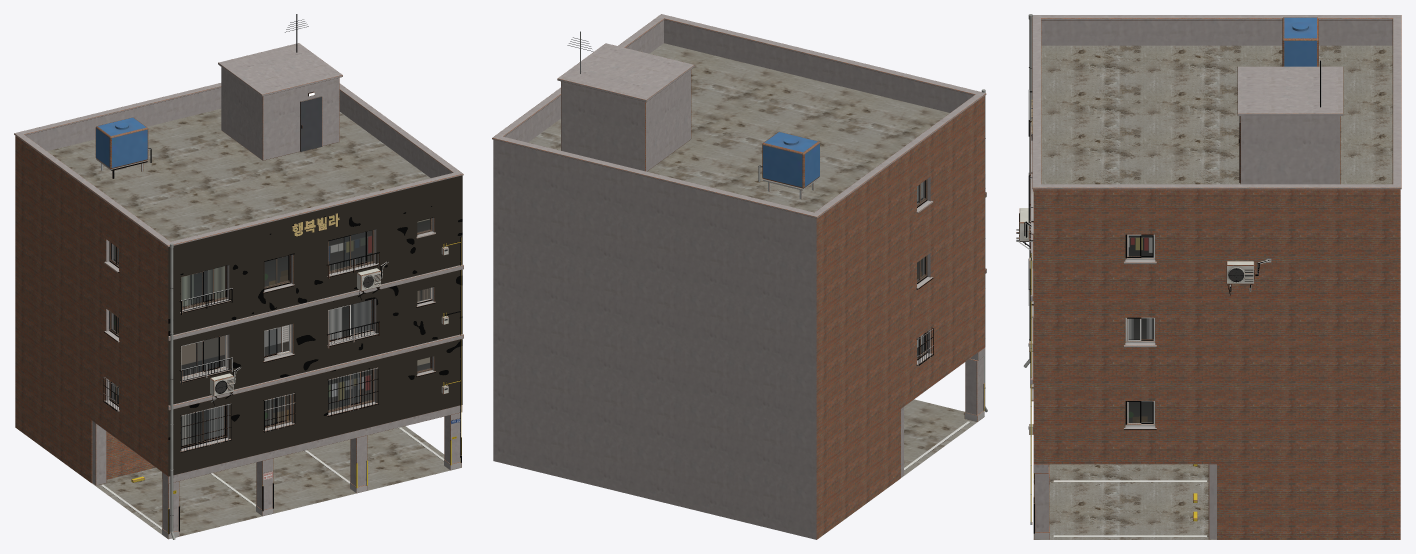
Rendered from BuildingVilla.fbx.
3 renders of one model, left to right at view 1: azimuth 30°, elevation 25°; view 2: azimuth 150°, elevation 25°; view 3: azimuth 270°, elevation 25°, orthographic. The views are drawn at different scales.
Parts seen in each view (by area): view 1: BuildingVilla; view 2: BuildingVilla; view 3: BuildingVilla.
Part boxes in pixels (box(x1,y1,x2,y2)): BuildingVilla: box(14, 14, 463, 539); BuildingVilla: box(492, 14, 987, 539); BuildingVilla: box(1016, 14, 1401, 539).
Bounding box in the file's own units: 12.82 × 14.95 × 11.55.
